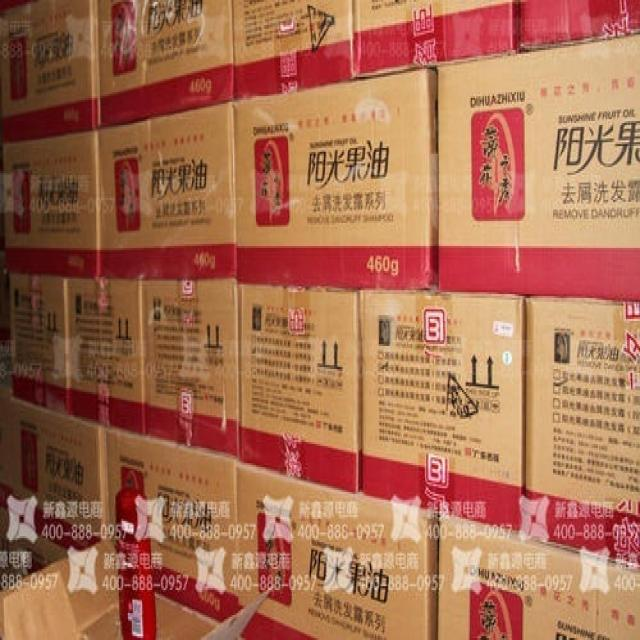box: (432, 37, 639, 300), (232, 67, 440, 286), (358, 287, 524, 538), (237, 463, 440, 638), (525, 298, 639, 567), (1, 537, 275, 638), (237, 280, 363, 493), (105, 424, 238, 623), (98, 101, 236, 278), (437, 517, 639, 637), (0, 373, 107, 553), (142, 279, 240, 460), (96, 0, 235, 126), (1, 130, 102, 273), (1, 0, 100, 142), (354, 0, 520, 79), (231, 1, 358, 101), (69, 276, 147, 433), (7, 273, 72, 415), (520, 0, 639, 51), (0, 515, 71, 590)
